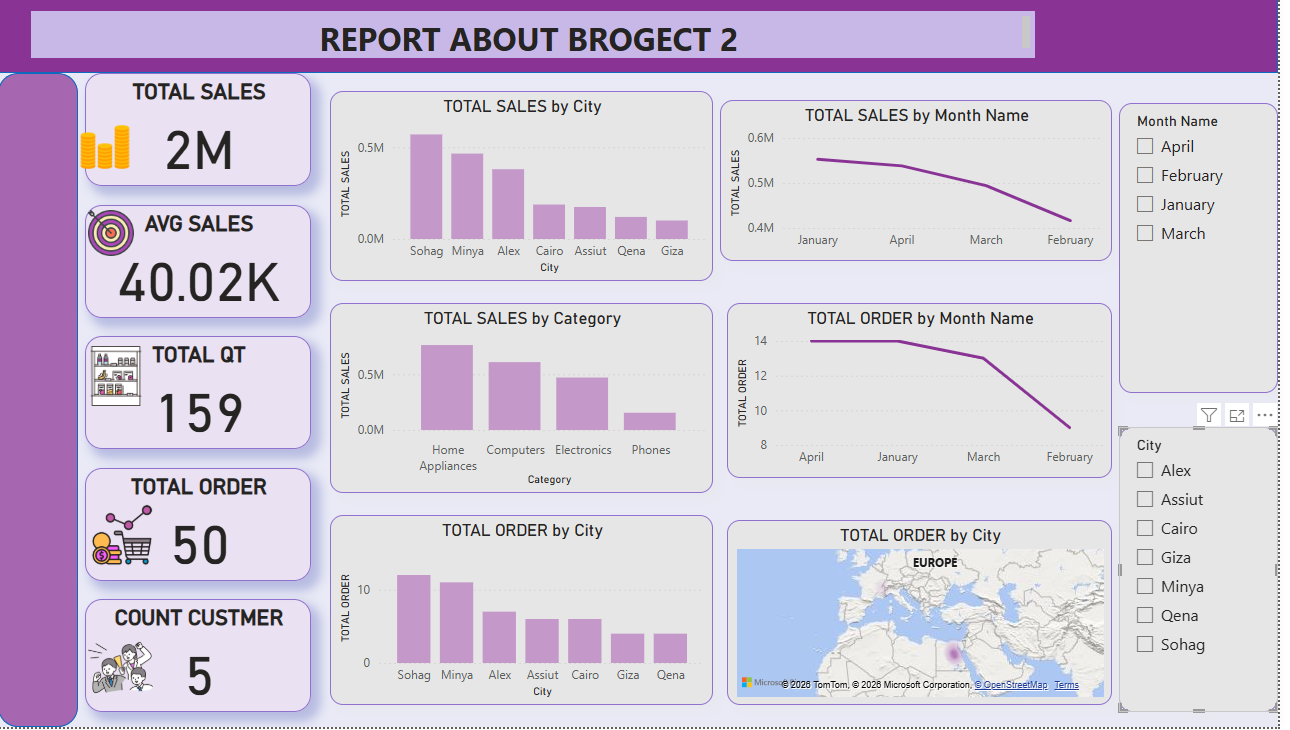

The page's visual inventory and layout, read from the dashboard file:
{"tool":"powerbi","page":{"name":"Page 1","canvas":[1280,756],"ordinal":0},"visuals":[{"type":"card","title":"TOTAL SALES","fields":{"Values":["Sales.TOTAL SALES"]},"box":[86.6,102.1,226.6,112.8],"z":0},{"type":"shape","box":[0,0,1280,102.1],"z":1000},{"type":"shape","box":[0,102.1,79.8,653.6],"z":2000},{"type":"textbox","box":[33.1,39.9,1003.8,46.7],"z":3000},{"type":"card","title":"AVG SALES","fields":{"Values":["Sales.AVG"]},"box":[86.6,233.7,226.6,112.8],"z":4000},{"type":"card","title":"TOTAL QT","fields":{"Values":["Sales.TOTAL QT"]},"box":[86.6,365.2,226.6,112.8],"z":5000},{"type":"card","title":"COUNT CUSTMER","fields":{"Values":["Sales.COUNT CUSTMER"]},"box":[86.6,628.3,226.6,112.8],"z":6000},{"type":"card","title":"TOTAL ORDER","fields":{"Values":["Sales.TOTAL ORDER"]},"box":[86.6,496.8,226.6,112.8],"z":7000},{"type":"columnChart","fields":{"Y":["Sales.TOTAL SALES"],"Category":["Sales.Category"]},"box":[331.7,331.7,383.2,190.6],"z":8000},{"type":"columnChart","fields":{"Y":["Sales.TOTAL SALES"],"Category":["Sales.City"]},"box":[331.7,119.6,383.2,190.6],"z":9000},{"type":"columnChart","fields":{"Y":["Sales.TOTAL ORDER"],"Category":["Sales.City"]},"box":[331.7,543.7,383.2,190.6],"z":10000},{"type":"lineChart","fields":{"Y":["Sales.TOTAL SALES"],"Category":["Sales.Month Name"]},"box":[721.7,129.4,392,160.5],"z":10001},{"type":"lineChart","fields":{"Y":["Sales.TOTAL ORDER"],"Category":["Sales.Month Name"]},"box":[728.5,331.7,385.2,175.1],"z":10002},{"type":"map","fields":{"Size":["Sales.TOTAL ORDER"],"Category":["Sales.City"]},"box":[728.5,548.6,385.2,185.8],"z":10003},{"type":"slicer","fields":{"Values":["Sales.Month Name"]},"box":[1121.5,132.3,158.5,289.8],"z":10004},{"type":"slicer","fields":{"Values":["Sales.City"]},"box":[1121.5,456.2,158.5,285],"z":10006},{"type":"image","box":[72,142,70,68.1],"z":10007},{"type":"image","box":[82.7,234.4,59.3,55.4],"z":10008},{"type":"image","box":[82.7,522.3,82.7,83.6],"z":10009},{"type":"image","box":[84.6,658.5,75.9,75.9],"z":10010},{"type":"image","box":[82.7,365.7,70,77.8],"z":10011}]}

Visuals, with their boxes in screenshot pixels (x1, y1, x2, y2):
"TOTAL SALES" card: <bbox>82, 71, 313, 186</bbox>
shape: <bbox>0, 0, 1289, 71</bbox>
shape: <bbox>0, 71, 75, 729</bbox>
textbox: <bbox>27, 7, 1053, 55</bbox>
"AVG SALES" card: <bbox>82, 205, 313, 321</bbox>
"TOTAL QT" card: <bbox>82, 340, 313, 455</bbox>
"COUNT CUSTMER" card: <bbox>82, 609, 313, 724</bbox>
"TOTAL ORDER" card: <bbox>82, 474, 313, 589</bbox>
columnChart - Sales.TOTAL SALES x Sales.Category: <bbox>332, 305, 724, 500</bbox>
columnChart - Sales.TOTAL SALES x Sales.City: <bbox>332, 89, 724, 283</bbox>
columnChart - Sales.TOTAL ORDER x Sales.City: <bbox>332, 522, 724, 717</bbox>
lineChart - Sales.TOTAL SALES x Sales.Month Name: <bbox>731, 99, 1132, 263</bbox>
lineChart - Sales.TOTAL ORDER x Sales.Month Name: <bbox>738, 305, 1132, 484</bbox>
map - Sales.TOTAL ORDER x Sales.City: <bbox>738, 527, 1132, 717</bbox>
slicer - Sales.Month Name: <bbox>1140, 102, 1289, 398</bbox>
slicer - Sales.City: <bbox>1140, 433, 1289, 724</bbox>
image: <bbox>67, 112, 138, 181</bbox>
image: <bbox>78, 206, 138, 263</bbox>
image: <bbox>78, 500, 162, 586</bbox>
image: <bbox>80, 639, 157, 717</bbox>
image: <bbox>78, 340, 149, 420</bbox>
